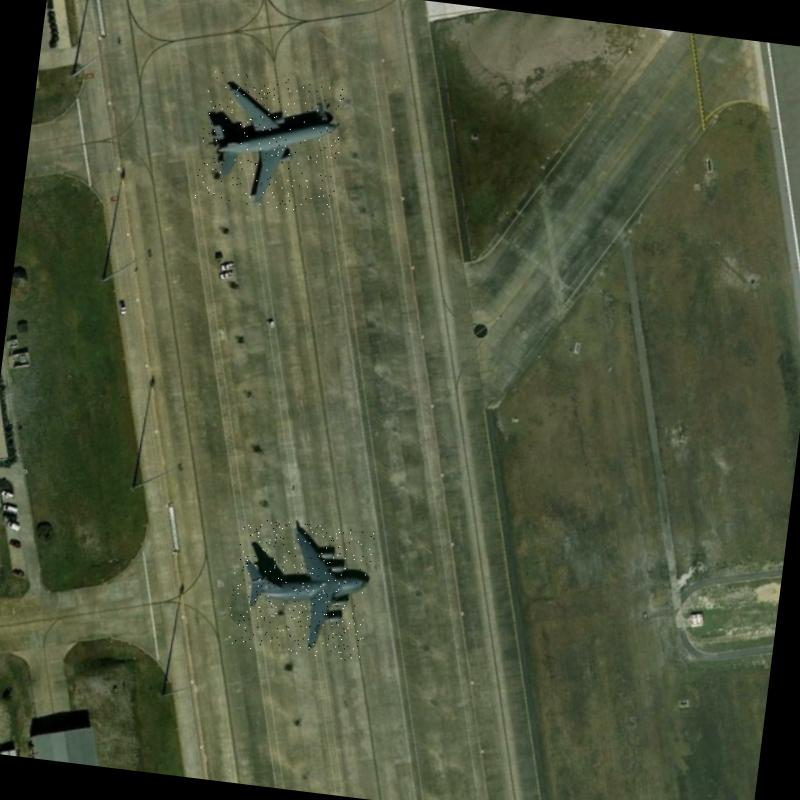A18: (194, 70, 347, 216)
A3: (225, 515, 376, 662)
